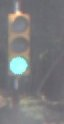Green: (5, 8, 30, 77)
